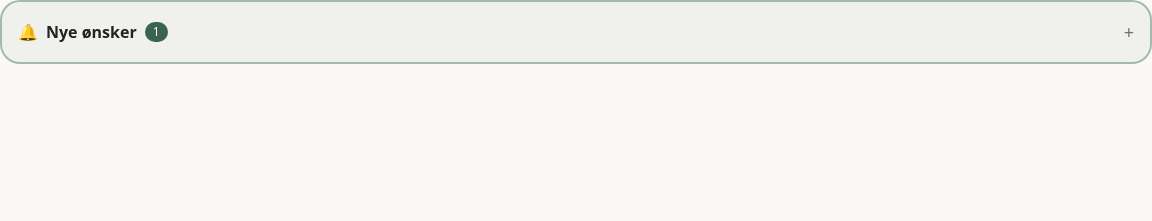
NewRequestsPanel › viser listen efter tryk på overskriften
The image size is (1152, 221).
Click the button "🔔 Nye ønsker 1 +".
click(91, 32)  # box [18,18,1134,46]
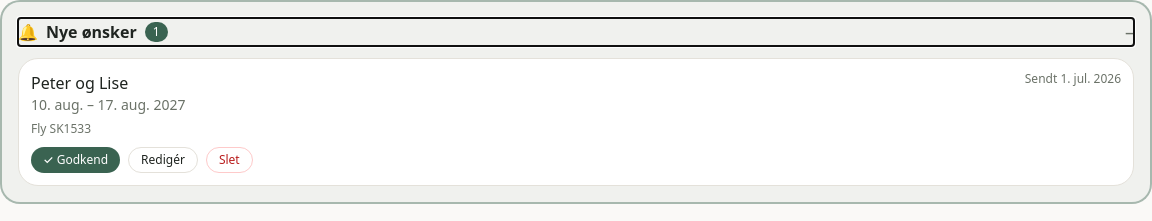
expect the text "Peter og Lise" is shown: met, box [31,72,128,94]
